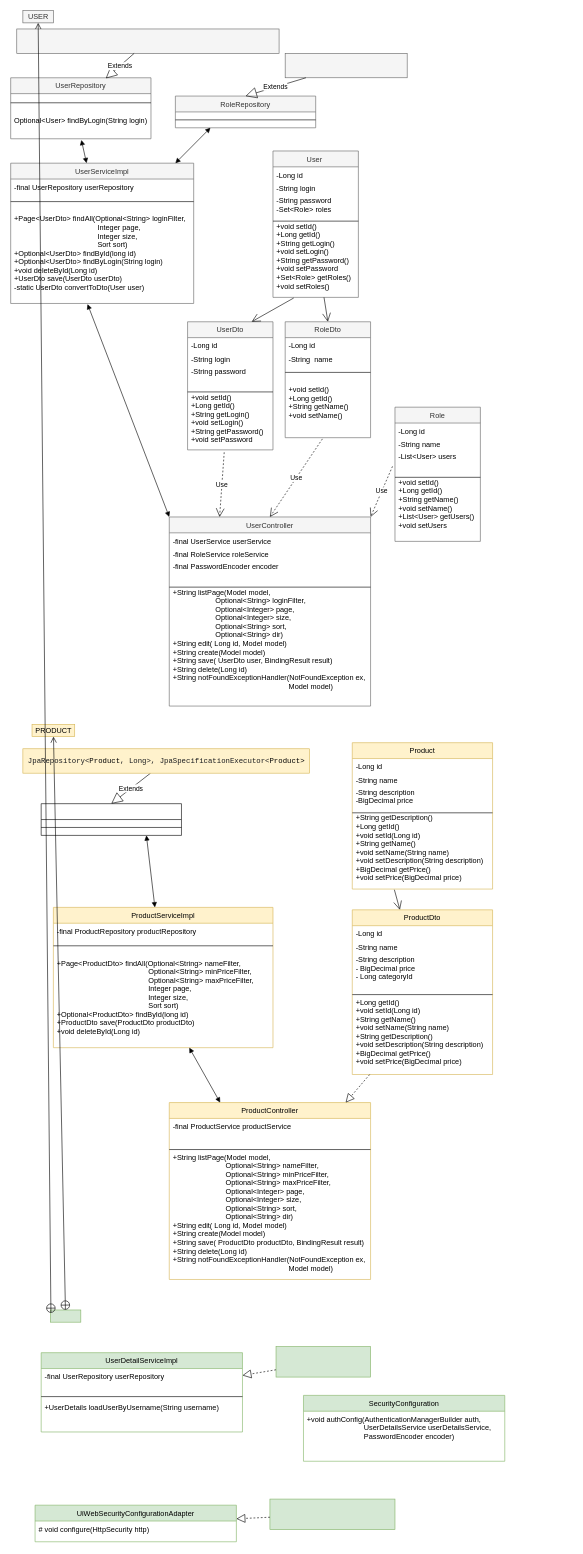
Image size: 583x1554. Some labels were removed from this diagram. The centre of each missing label's shape, as x and y in pixels:
"CORE" goes at [65,1315].
"JpaRepository<Role, Long>" goes at [346,65].
"JpaRepository<User, Long>, JpaSpecificationExecutor<User>" goes at [147,40].
"ProductRepository" goes at [111,819].
"UserDetailService" goes at [323,1361].
"WebSecurityConfigurerAdapter" goes at [332,1514].
